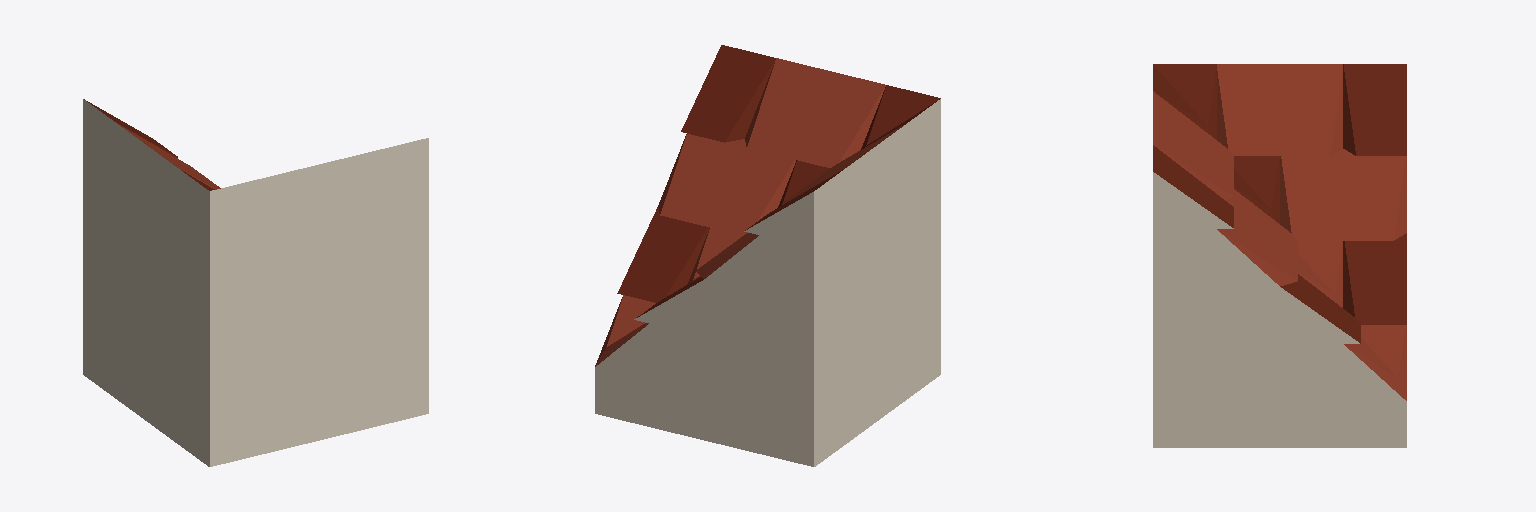
File: Roof_Straight_Corner_Inner.obj
The picture shows the model from 3 angles: view 1: azimuth 30°, elevation 25°; view 2: azimuth 150°, elevation 25°; view 3: azimuth 270°, elevation 25°; orthographic projection.
Visible parts, largest first — view 1: object1; view 2: object1; view 3: object1.
Boxes of the visible parts, box(x1,y1,x2,y2) form: object1: box(83, 99, 428, 466); object1: box(595, 45, 940, 466); object1: box(1153, 64, 1406, 447).
Bounding box in the file's own units: 1 × 1.2 × 1.